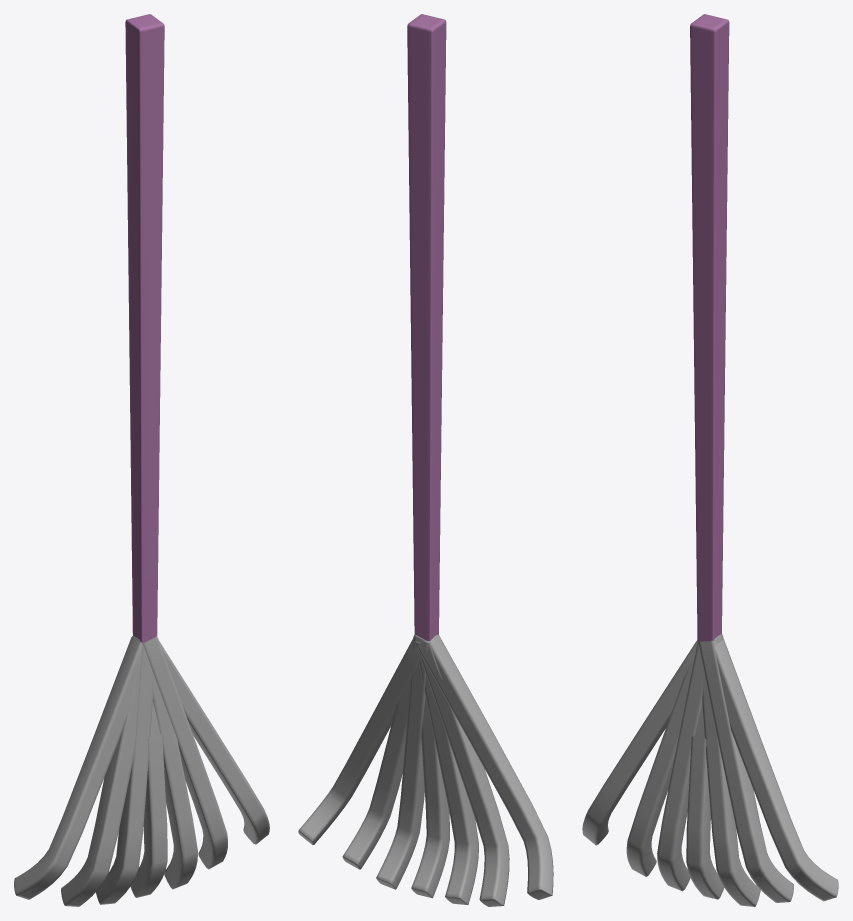
Rendered from Rake.fbx.
The picture shows the model from 3 angles, left to right: view 1: azimuth 30°, elevation 25°; view 2: azimuth 150°, elevation 25°; view 3: azimuth 330°, elevation 25°; orthographic projection.
Parts seen in each view (by area): view 1: pCube10, pCube2; view 2: pCube10, pCube2; view 3: pCube10, pCube2.
Boxes of the visible parts, x1,y1,x2,y2 form: pCube10: (14, 636, 269, 906); pCube2: (125, 14, 164, 643); pCube10: (298, 634, 553, 906); pCube2: (407, 14, 446, 641); pCube10: (582, 634, 838, 906); pCube2: (690, 14, 729, 641).
Size of the model in its own units: 4.51 by 14.95 by 0.7537.
